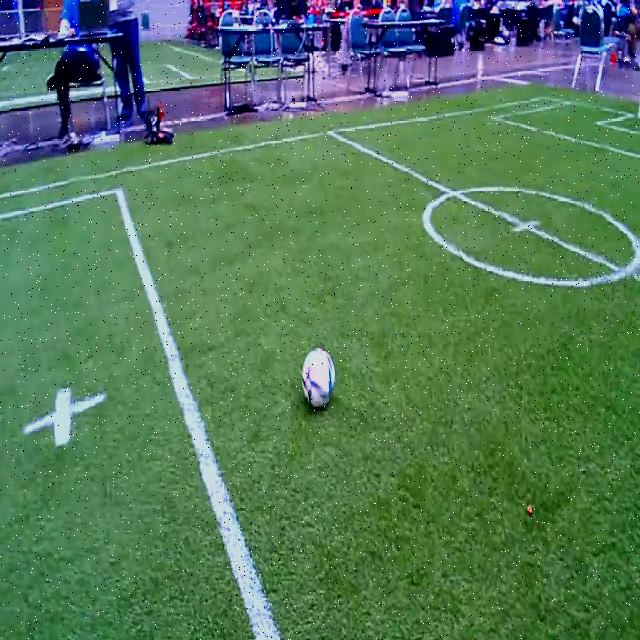ball: (302, 347, 335, 408)
